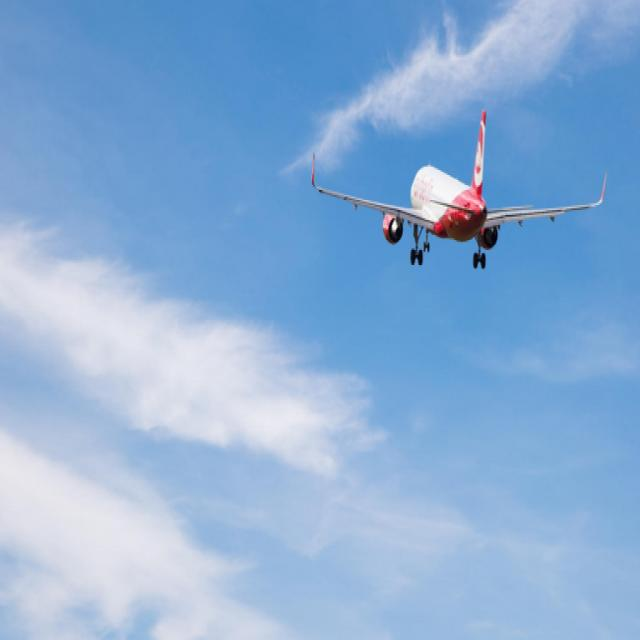plane: (310, 102, 614, 265)
